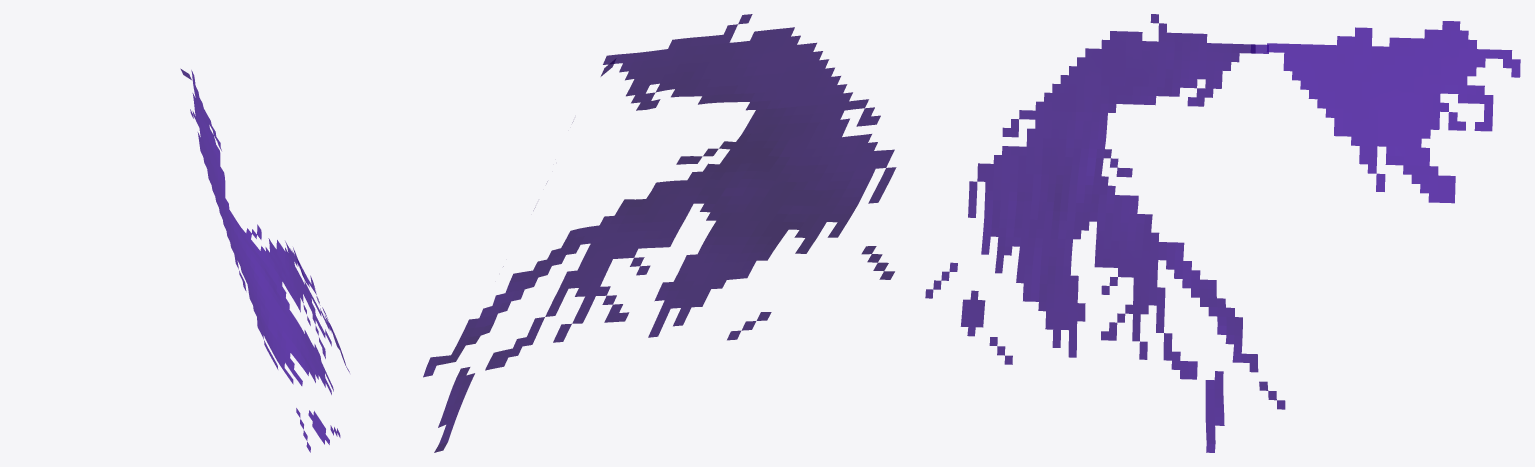
Rendered from ukakutouka.obj.
3 renders of one model, left to right at view 1: azimuth 30°, elevation 25°; view 2: azimuth 150°, elevation 25°; view 3: azimuth 270°, elevation 25°, orthographic. The views are drawn at different scales.
Parts seen in each view (by area): view 1: Kagune_Plane_14_Plane_15; view 2: Kagune_Plane_14_Plane_15; view 3: Kagune_Plane_14_Plane_15, o Kagune_Plane_12_Plane_13.
Boxes of the visible parts, <box> form: Kagune_Plane_14_Plane_15: <box>190,70,349,452</box>; Kagune_Plane_14_Plane_15: <box>423,14,896,452</box>; Kagune_Plane_14_Plane_15: <box>925,14,1285,452</box>; o Kagune_Plane_12_Plane_13: <box>1266,21,1520,203</box>.
Bounding box in the file's own units: 1.51 × 2.25 × 3.53.
